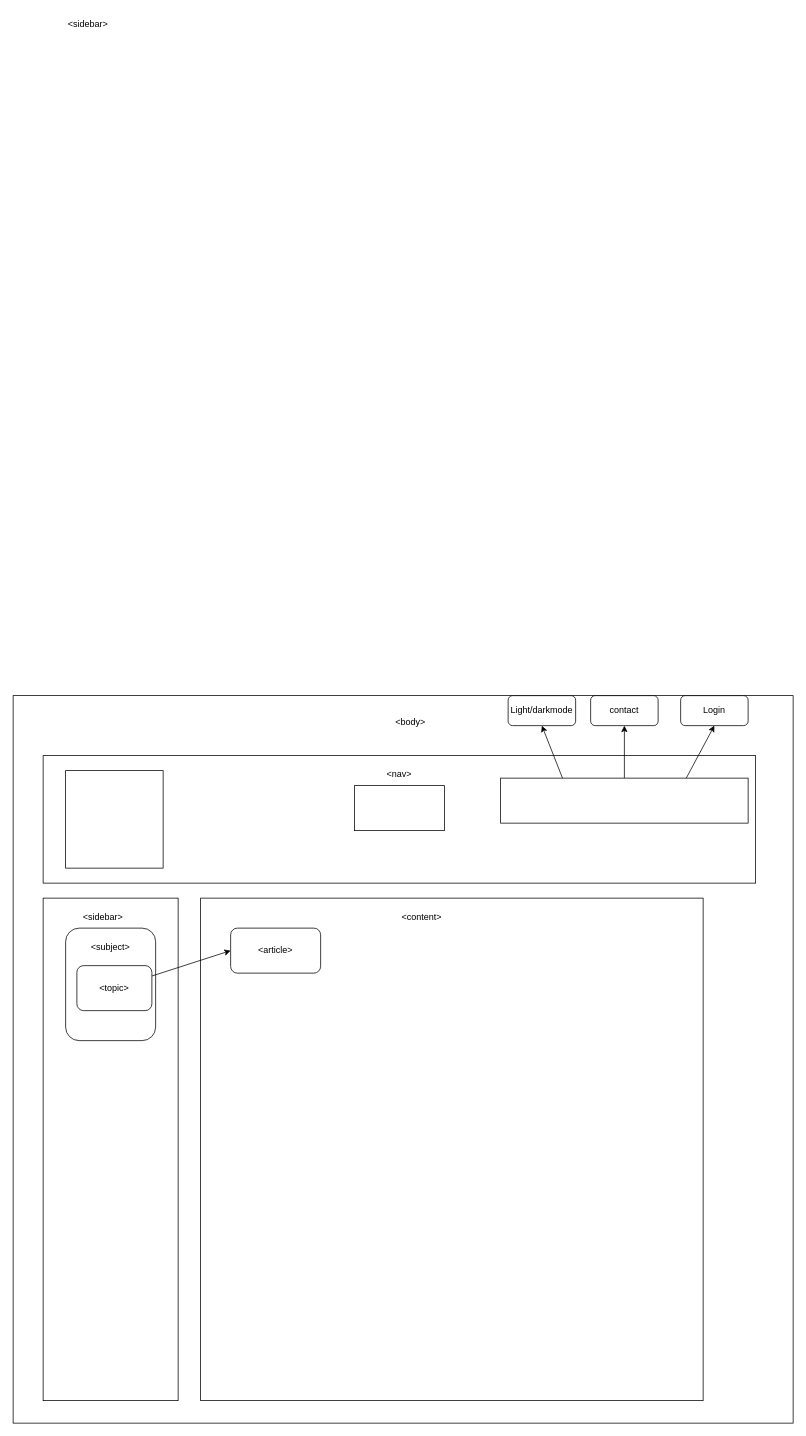
Image size: 806x1436. Some labels were removed from this diagram. The shapes that lost their labels are listed below. From the top down, each one's centre as x and y in pixels, then its label:
At (x=114, y=819): "<logo>".
At (x=399, y=808): "Title".
At (x=624, y=800): "navitems".
